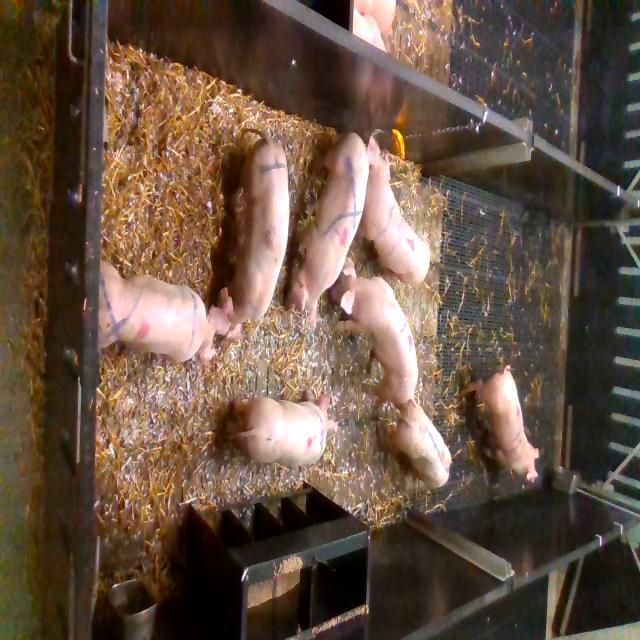pig: (284, 132, 370, 320), (217, 128, 290, 339), (98, 258, 231, 363), (329, 257, 419, 410), (356, 135, 430, 285), (460, 364, 539, 484), (224, 393, 340, 470), (387, 401, 452, 492)
